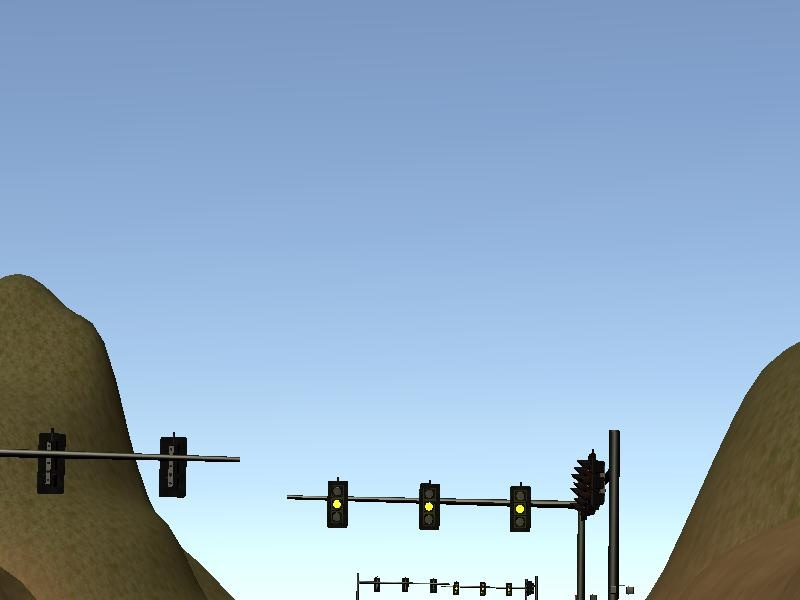YELLOW: (510, 485, 530, 534), (419, 483, 439, 532), (328, 479, 348, 528)
